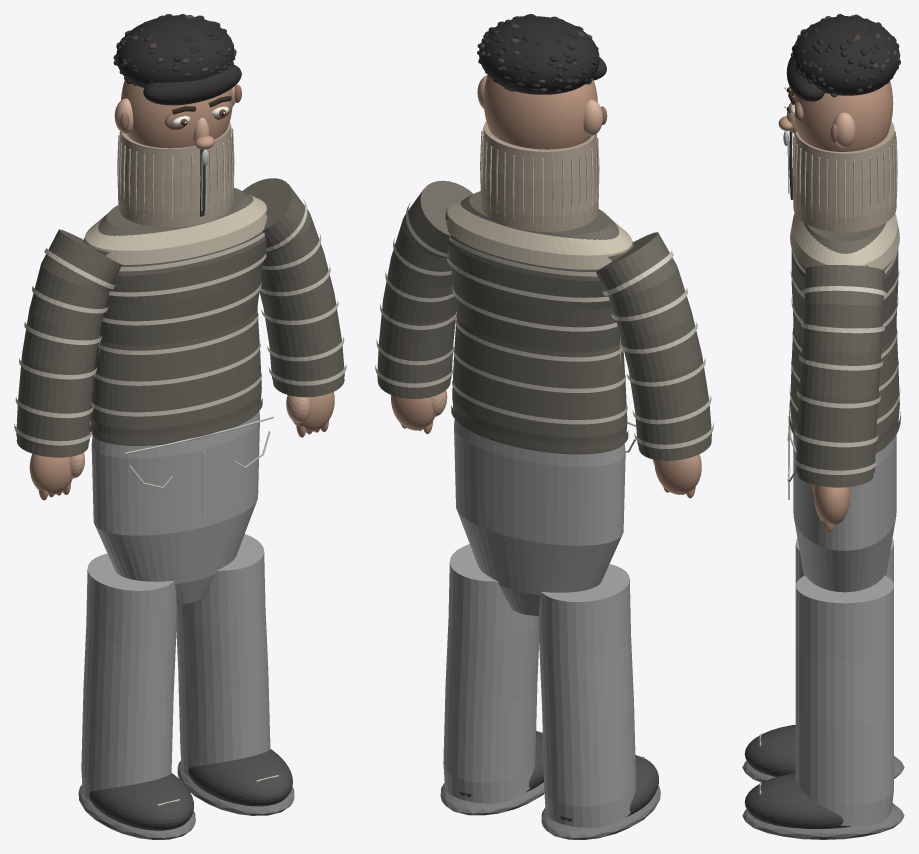
The model's file is character_from_photos.glb.
The picture shows the model from 3 angles, left to right: view 1: azimuth 30°, elevation 25°; view 2: azimuth 150°, elevation 25°; view 3: azimuth 270°, elevation 25°; orthographic projection.
Parts seen in each view (by area): view 1: Sweater body_19, Jeans pelvis_0, Denim trouser leg_1, Denim trouser leg_8, Sweater sleeve_27, Sweater sleeve_41, High beige zip collar_56, Hair cap_116, Beige shoulder yoke_26, Sneaker upper_4, Sneaker upper_11, Face_97 (+12 smaller); view 2: Sweater body_19, Jeans pelvis_0, Denim trouser leg_1, Denim trouser leg_8, Sweater sleeve_27, Sweater sleeve_41, High beige zip collar_56, Hair cap_116, Face_97, Beige shoulder yoke_26, Sneaker sole_3, Sweater hem rib edge_294 (+10 smaller); view 3: Denim trouser leg_8, Sweater sleeve_41, Jeans pelvis_0, High beige zip collar_56, Hair cap_116, Sweater body_19, Face_97, Sneaker upper_11, Beige shoulder yoke_26, Sneaker upper_4, Sneaker sole_10, Hand_49 (+11 smaller).
Boxes of the visible parts, bbox=[...] form: Sweater body_19: bbox=[83, 187, 267, 445]; Jeans pelvis_0: bbox=[91, 411, 259, 604]; Denim trouser leg_1: bbox=[81, 553, 176, 800]; Denim trouser leg_8: bbox=[176, 534, 270, 776]; Sweater sleeve_27: bbox=[16, 229, 122, 452]; Sweater sleeve_41: bbox=[242, 178, 344, 392]; High beige zip collar_56: bbox=[118, 121, 233, 227]; Hair cap_116: bbox=[116, 15, 234, 87]; Beige shoulder yoke_26: bbox=[84, 195, 267, 264]; Sneaker upper_4: bbox=[89, 773, 193, 830]; Sneaker upper_11: bbox=[188, 749, 292, 806]; Face_97: bbox=[121, 80, 232, 148]; Sweater body_19: bbox=[445, 191, 633, 454]; Jeans pelvis_0: bbox=[454, 419, 625, 615]; Denim trouser leg_1: bbox=[538, 564, 636, 828]; Denim trouser leg_8: bbox=[443, 544, 539, 803]; Sweater sleeve_27: bbox=[595, 232, 711, 455]; Sweater sleeve_41: bbox=[377, 180, 473, 393]; High beige zip collar_56: bbox=[481, 121, 598, 231]; Hair cap_116: bbox=[479, 16, 599, 94]; Face_97: bbox=[483, 75, 597, 149]; Beige shoulder yoke_26: bbox=[446, 198, 632, 269]; Sneaker sole_3: bbox=[541, 785, 660, 839]; Sweater hem rib edge_294: bbox=[451, 405, 628, 452]; Denim trouser leg_8: bbox=[795, 575, 893, 826]; Sweater sleeve_41: bbox=[796, 265, 884, 481]; Jeans pelvis_0: bbox=[793, 435, 896, 592]; High beige zip collar_56: bbox=[793, 121, 896, 232]; Hair cap_116: bbox=[792, 16, 899, 95]; Sweater body_19: bbox=[790, 222, 899, 453]; Face_97: bbox=[793, 80, 893, 151]; Sneaker upper_11: bbox=[744, 773, 892, 828]; Beige shoulder yoke_26: bbox=[790, 213, 899, 269]; Sneaker upper_4: bbox=[744, 724, 795, 776]; Sneaker sole_10: bbox=[742, 803, 904, 839]; Hand_49: bbox=[814, 485, 850, 525].
Bounding box in the file's own units: 0.7773 × 1.8 × 0.34.
